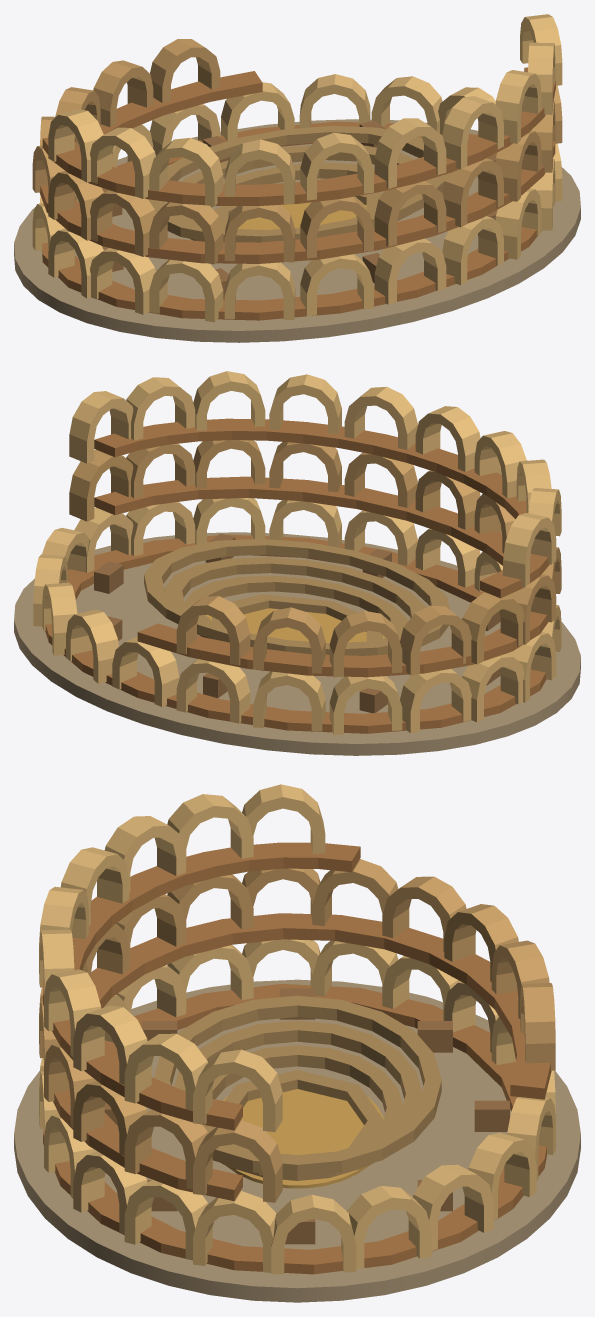
Rendered from colosseum.glb.
The picture shows the model from 3 angles, top to bottom: view 1: azimuth 30°, elevation 25°; view 2: azimuth 150°, elevation 25°; view 3: azimuth 270°, elevation 25°; orthographic projection. The views are drawn at different scales.
Visible parts, largest first — view 1: body_DACAAB, body_BBA982, body_C9B993, base_B6AE97, interior_AD9F80, body_A6916C, arena_B59A71; view 2: body_DACAAB, body_BBA982, base_B6AE97, body_C9B993, interior_AD9F80, body_A6916C, arena_B59A71; view 3: body_DACAAB, body_BBA982, base_B6AE97, body_C9B993, interior_AD9F80, arena_B59A71, body_A6916C.
Part boxes in pixels (x1,y1,x2,y2): body_DACAAB: (32,14,562,322); body_BBA982: (39,67,555,320); body_C9B993: (32,39,562,264); base_B6AE97: (14,119,580,342); interior_AD9F80: (148,125,447,242); body_A6916C: (102,120,497,299); arena_B59A71: (238,202,366,229); body_DACAAB: (33,371,561,735); body_BBA982: (45,418,549,733); base_B6AE97: (14,532,580,755); body_C9B993: (69,440,561,677); interior_AD9F80: (144,539,449,655); body_A6916C: (94,533,500,713); arena_B59A71: (205,608,385,643); body_DACAAB: (39,784,555,1274); body_BBA982: (43,842,551,1274); base_B6AE97: (14,979,580,1302); body_C9B993: (39,859,555,1202); interior_AD9F80: (154,995,441,1180); arena_B59A71: (223,1089,383,1188); body_A6916C: (104,988,509,1244).
Bounding box in the file's own units: 1 × 0.3374 × 0.7767.
